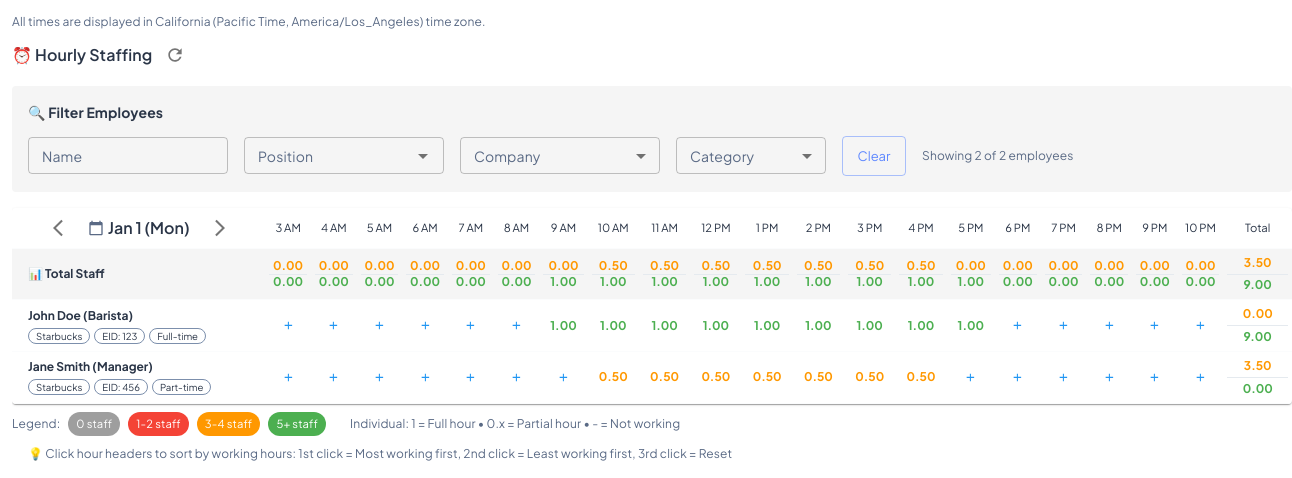
HourlyStaffingTable › Filtering › filters employees by position using autocomplete
Click the dropdown labelled "Position": (328, 156) [250, 143, 405, 168]
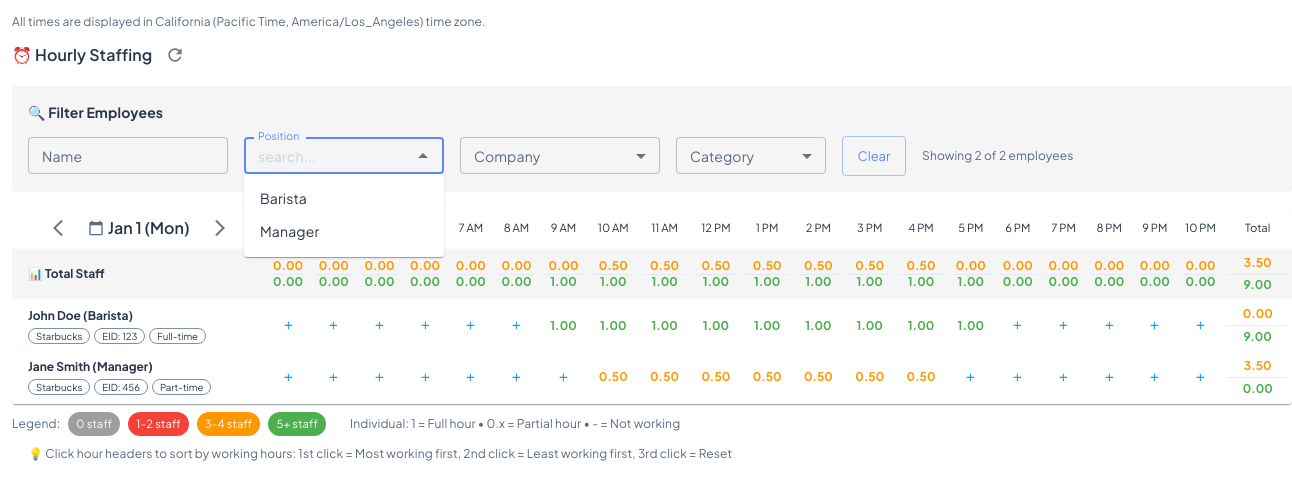
Result: the list is shown at [260, 189, 319, 240]
